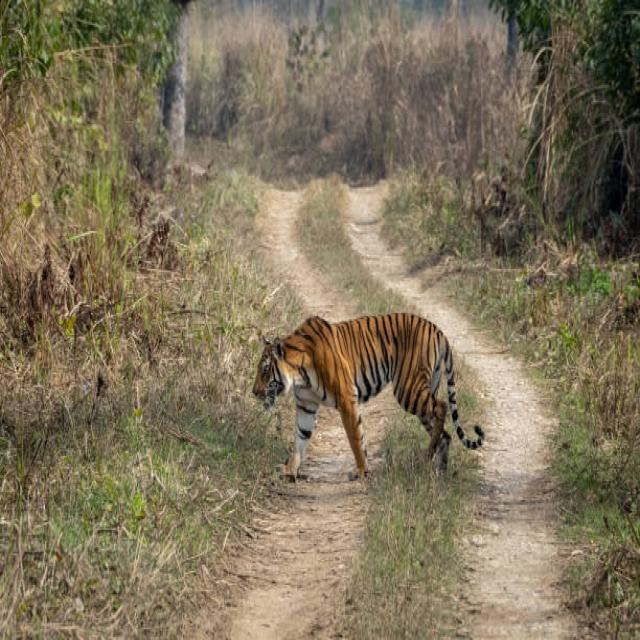not_pig: (251, 310, 484, 483)
